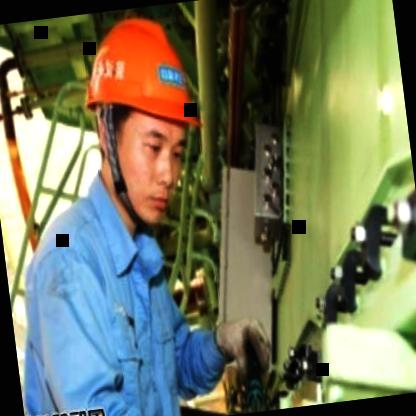helmet: (62, 0, 223, 239)
